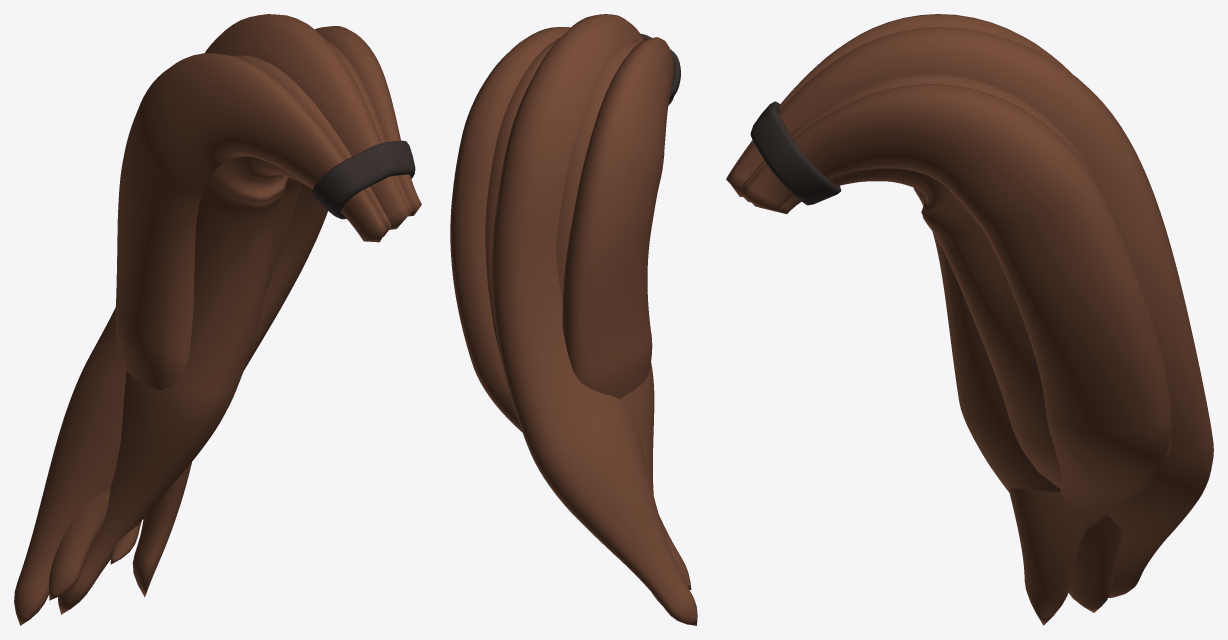
The model's file is ponytail-beanie-default.glb.
The picture shows the model from 3 angles, left to right: view 1: azimuth 30°, elevation 25°; view 2: azimuth 150°, elevation 25°; view 3: azimuth 270°, elevation 25°; orthographic projection. The views are drawn at different scales.
Visible parts, largest first — view 1: Hair / rounded tail220 0, Hair / rounded tail220 1, Hair / rounded tail220 2, Hair / rounded tail220 3, Hair / rounded tail220 4, Hair / tie220; view 2: Hair / rounded tail220 2, Hair / rounded tail220 0, Hair / rounded tail220 4, Hair / rounded tail220 1, Hair / rounded tail220 3, Hair / tie220; view 3: Hair / rounded tail220 4, Hair / rounded tail220 2, Hair / rounded tail220 3, Hair / rounded tail220 1, Hair / rounded tail220 0, Hair / tie220.
Part boxes in pixels (x1,y1,x2,y2): Hair / rounded tail220 0: (115,53,386,597); Hair / rounded tail220 1: (58,55,391,614); Hair / rounded tail220 2: (14,14,410,625); Hair / rounded tail220 3: (49,40,412,600); Hair / rounded tail220 4: (110,26,421,564); Hair / tie220: (311,140,415,219); Hair / rounded tail220 2: (492,14,697,625); Hair / rounded tail220 0: (562,37,673,398); Hair / rounded tail220 4: (450,27,570,431); Hair / rounded tail220 1: (556,40,662,605); Hair / rounded tail220 3: (485,37,691,589); Hair / tie220: (640,33,680,100); Hair / rounded tail220 4: (742,84,1171,528); Hair / rounded tail220 2: (726,27,1213,597); Hair / rounded tail220 3: (740,74,1171,499); Hair / rounded tail220 1: (913,187,1122,612); Hair / rounded tail220 0: (726,14,1089,625); Hair / tie220: (750,101,841,205).
Bounding box in the file's own units: 0.2112 × 0.4144 × 0.269.
